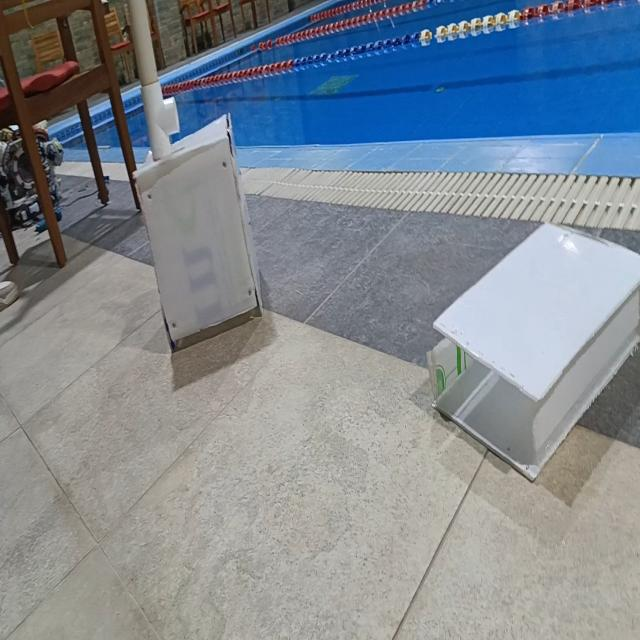Cube: (132, 113, 264, 352)
Cuboid: (426, 218, 639, 482)
